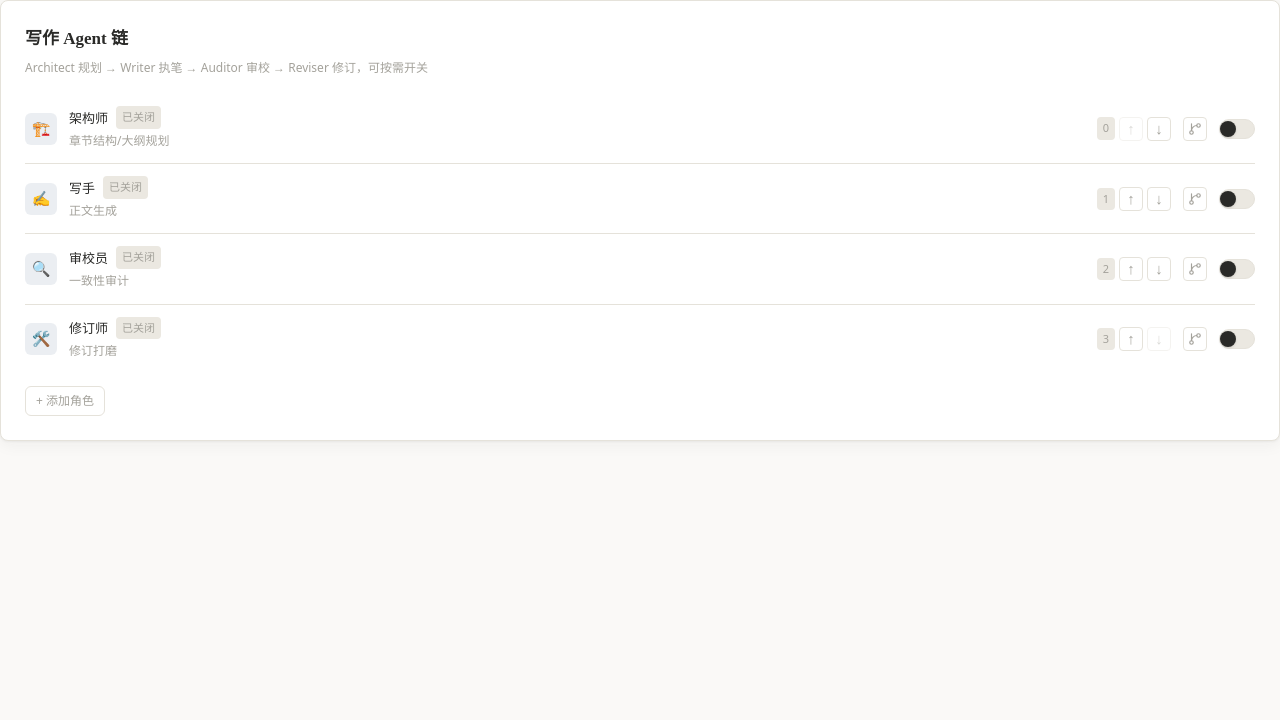
Test: AgentChainCard — v1.5 #484 添加角色 + 角色池（spec §5.7.2/§5.7.3） › 新角色行支持既有 M6 交互：槽位号 + 模型 Select（§5.7.3「新增角色同样支持」）
The image size is (1280, 720).
Expected: the text "架构师" is shown, [69,107,108,129]
Click the button with test id "agent-chain-add-role": (65, 401) [25,386,105,416]
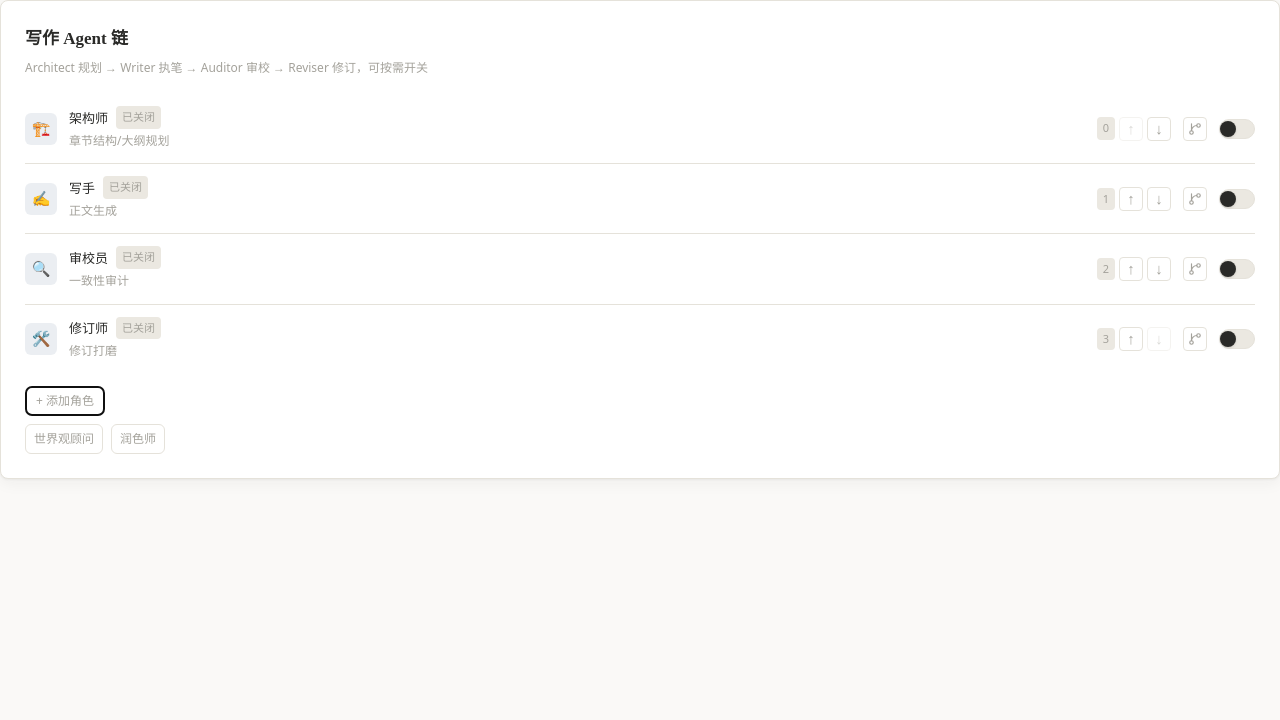
Click the button with test id "agent-chain-role-option-agent_worldview": (64, 439) [25,424,103,454]
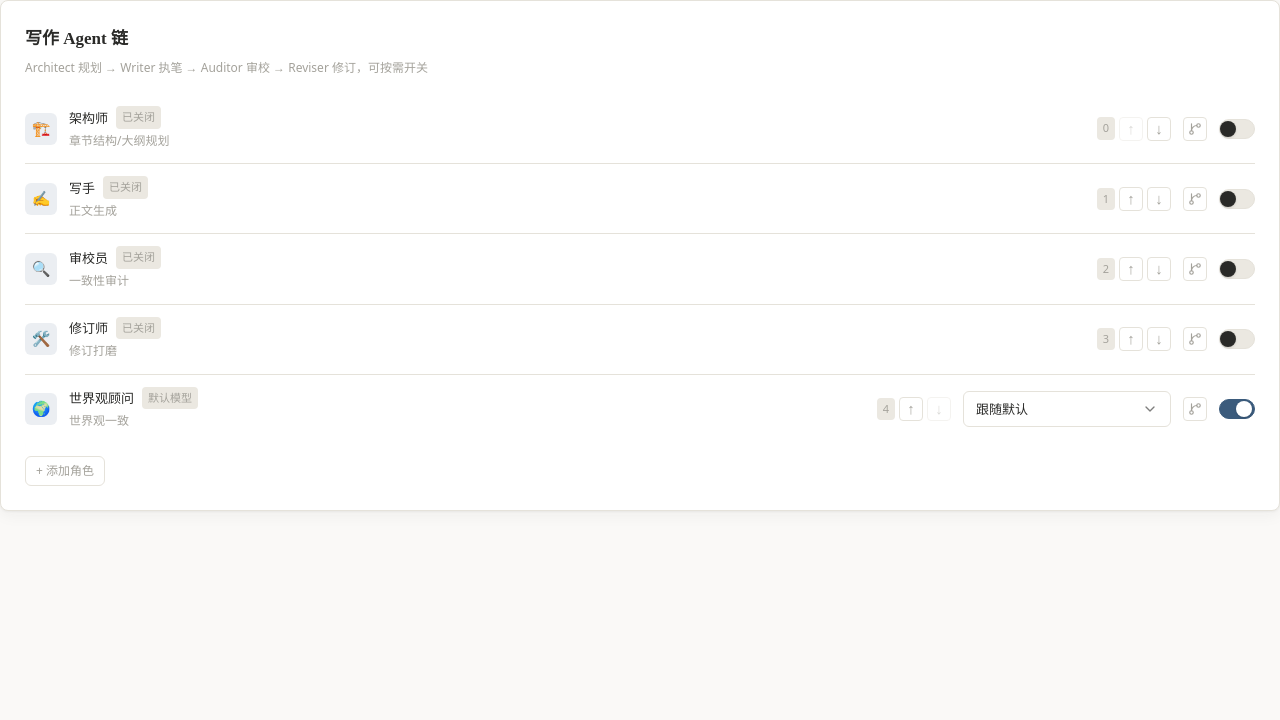
Expected: the text "世界观顾问" is shown, [69,387,134,409]
Expected: the text with test id "agent-order-slot-agent_worldview" reads "4", [883,401,889,416]
Expected: the dropdown with test id "agent-model-select-agent_worldview" is shown
// 下拉含「跟随默认」+ chat 模型选项
Click the dropdown with test id "agent-model-select-agent_worldview": (1067, 409) [963,391,1171,427]
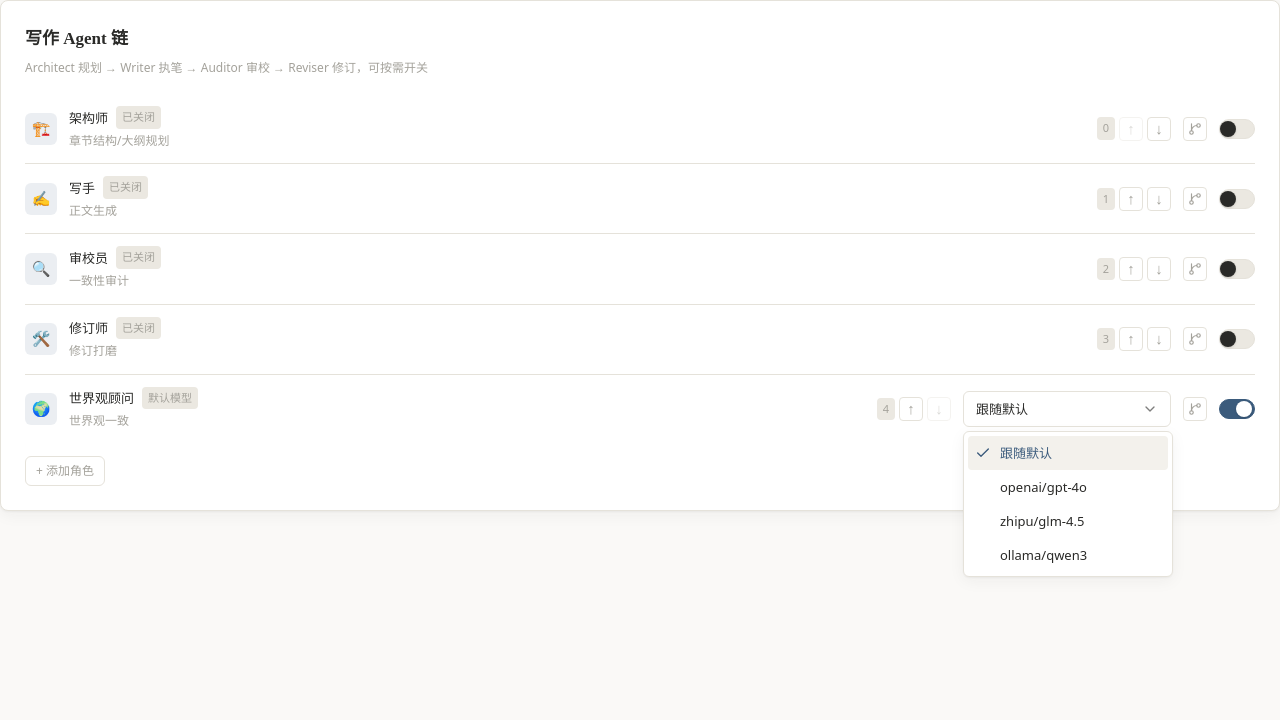
Expected: the option "跟随默认" is shown, [968,436,1168,470]
Expected: the option "zhipu/glm-4.5" is shown, [1000,512,1084,530]
